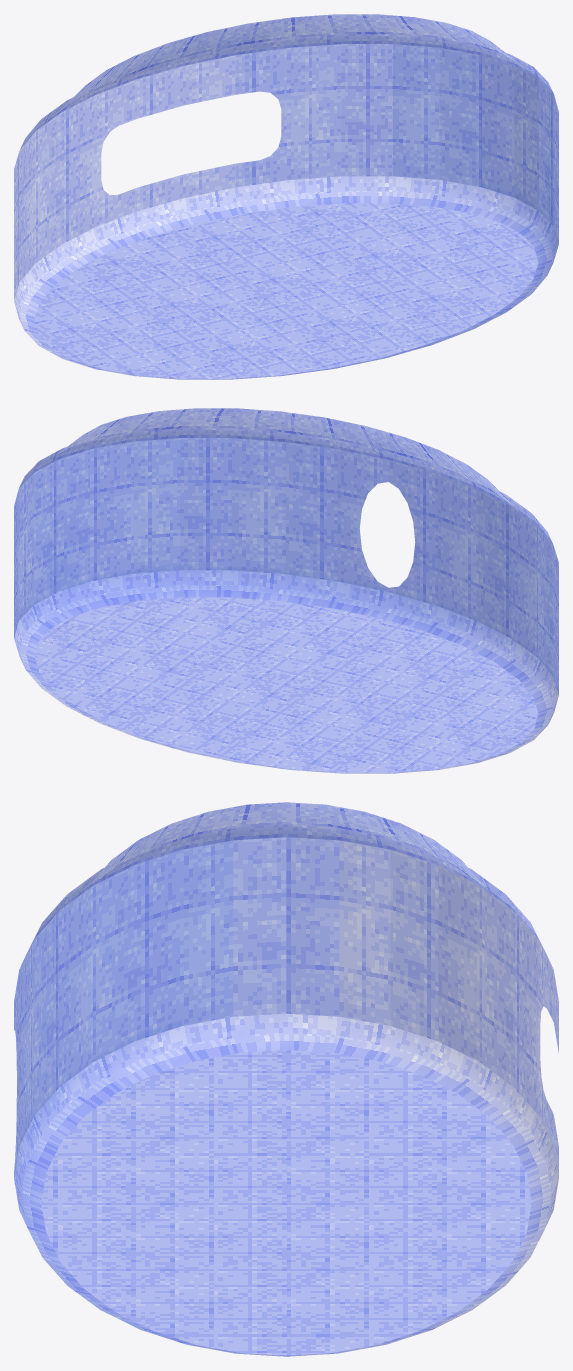
File: arch.room_shell__oval_lounge.glb
3 views of the same model, one above another, from view 1: azimuth 30°, elevation 25°; view 2: azimuth 150°, elevation 25°; view 3: azimuth 270°, elevation 25° (orthographic). The views are drawn at different scales.
Parts seen in each view (by area): view 1: kit_shell_walls, kit_shell_floor, kit_shell_ceiling; view 2: kit_shell_walls, kit_shell_floor, kit_shell_ceiling; view 3: kit_shell_walls, kit_shell_floor, kit_shell_ceiling.
Boxes of the visible parts, x1=… form: kit_shell_walls: x1=14, y1=34, x2=558, y2=379; kit_shell_floor: x1=34, y1=203, x2=538, y2=378; kit_shell_ceiling: x1=55, y1=14, x2=519, y2=115; kit_shell_walls: x1=14, y1=428, x2=558, y2=773; kit_shell_floor: x1=34, y1=597, x2=538, y2=772; kit_shell_ceiling: x1=53, y1=408, x2=517, y2=509; kit_shell_walls: x1=14, y1=824, x2=558, y2=1356; kit_shell_floor: x1=41, y1=1050, x2=531, y2=1355; kit_shell_ceiling: x1=70, y1=802, x2=502, y2=906.
Size of the model in its own units: 10 by 4.4 by 7.
3 materials, 3 textured.
